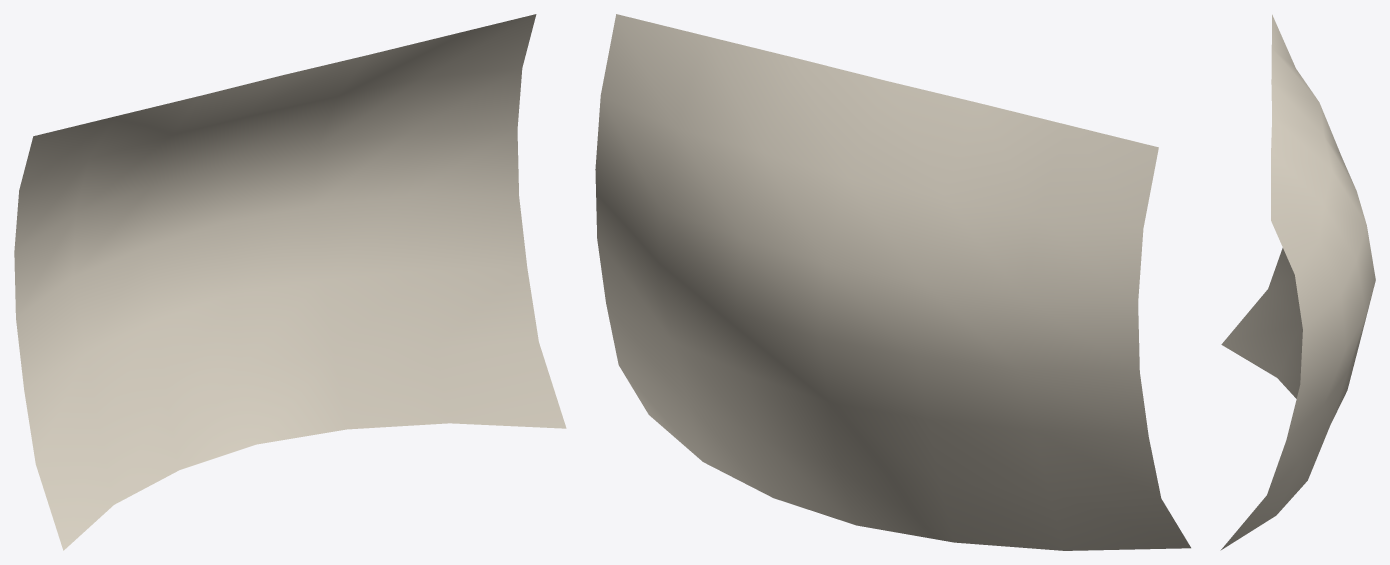
Rendered from sloop-sail.glb.
3 renders of one model, left to right at view 1: azimuth 30°, elevation 25°; view 2: azimuth 150°, elevation 25°; view 3: azimuth 270°, elevation 25°, orthographic. The views are drawn at different scales.
Parts seen in each view (by area): view 1: Plane.001; view 2: Plane.001; view 3: Plane.001.
Boxes of the visible parts, x1,y1,x2,y2 form: Plane.001: [14, 14, 566, 550]; Plane.001: [595, 14, 1190, 550]; Plane.001: [1220, 14, 1375, 550].
Bounding box in the file's own units: 6.85 × 5.12 × 2.18.
